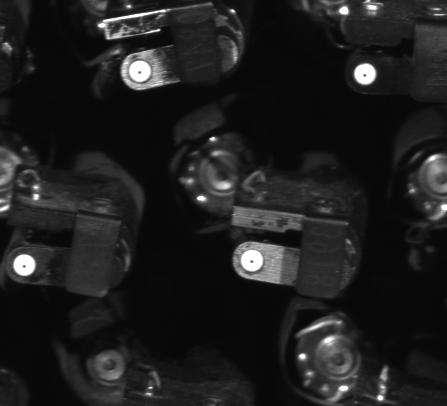fiber: (125, 56, 163, 92), (350, 60, 382, 90), (238, 247, 270, 276), (8, 250, 40, 279)
